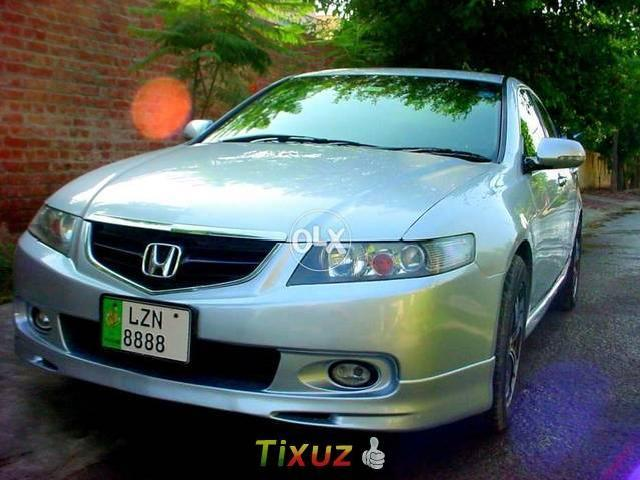plate: (95, 291, 200, 371)
